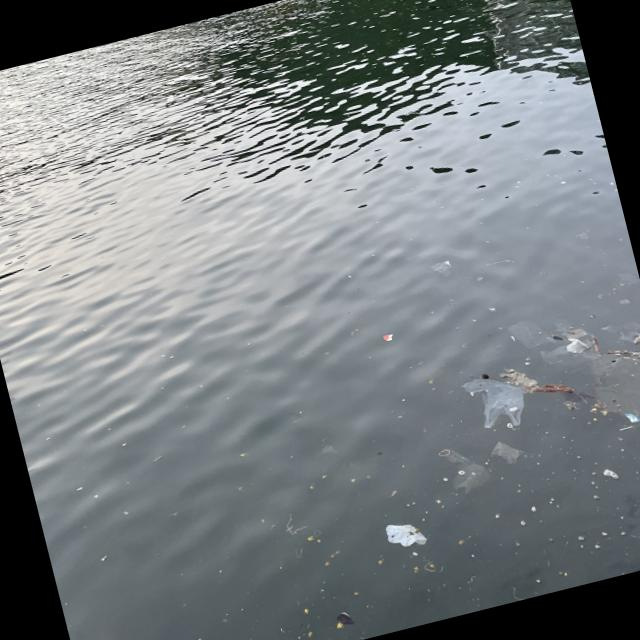plastic bag: (463, 376, 525, 429)
